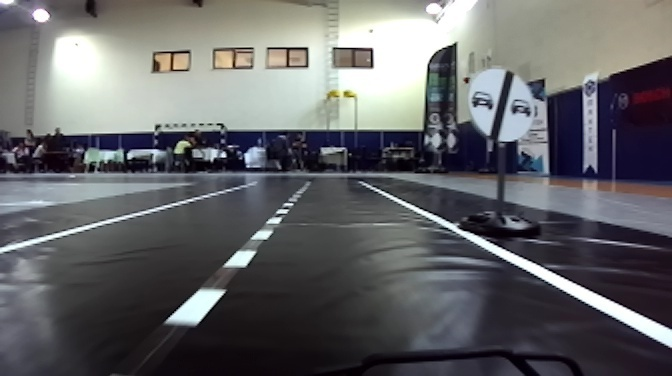sollama_serbest: (466, 67, 531, 141)
